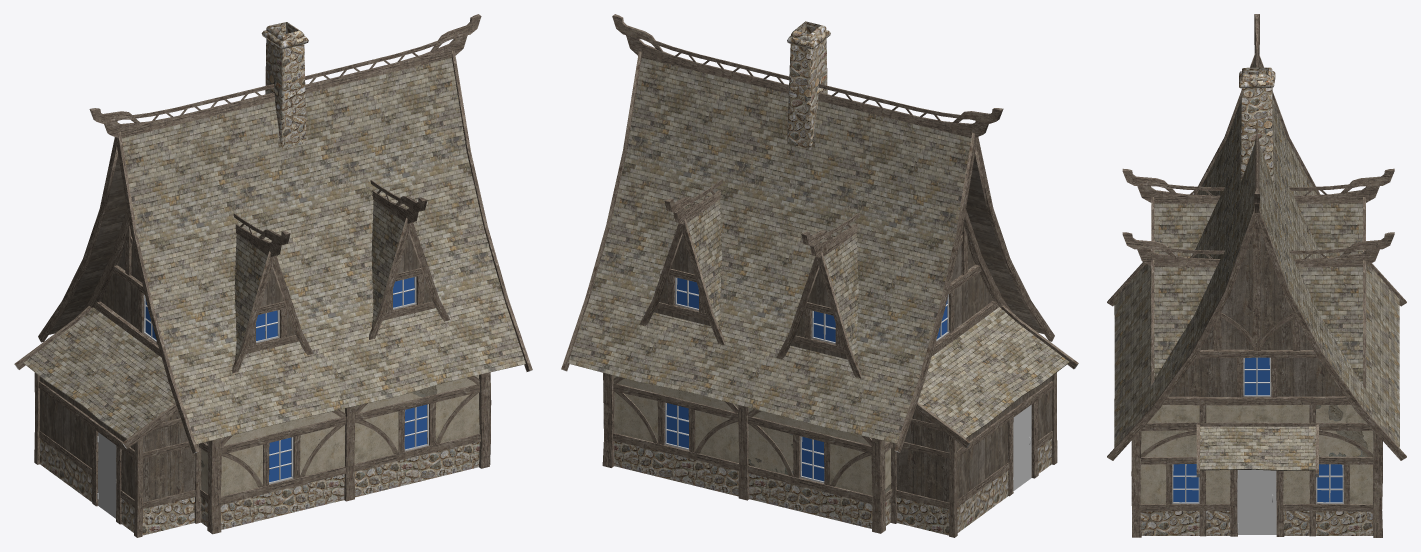
The model's file is mw_type_2_cottage_01.FBX.
3 renders of one model, left to right at view 1: azimuth 30°, elevation 25°; view 2: azimuth 150°, elevation 25°; view 3: azimuth 270°, elevation 25°, orthographic. The views are drawn at different scales.
Parts seen in each view (by area): view 1: mw_type_2_cottage_building_01_roof, mw_type_2_cottage_building_01_wood, mw_type_2_cottage_building_01_stone_01, mw_type_2_cottage_building_01_wall, mw_type_2_cottage_building_01; view 2: mw_type_2_cottage_building_01_roof, mw_type_2_cottage_building_01_wood, mw_type_2_cottage_building_01_stone_01, mw_type_2_cottage_building_01_wall, mw_type_2_cottage_building_01; view 3: mw_type_2_cottage_building_01_roof, mw_type_2_cottage_building_01_wood, mw_type_2_cottage_building_01_wall, mw_type_2_cottage_building_01_stone_01, mw_type_2_cottage_building_01.
Boxes of the visible parts, box(x1,y1,x2,y2) form: mw_type_2_cottage_building_01_roof: box(23, 57, 525, 444); mw_type_2_cottage_building_01_wood: box(14, 14, 532, 537); mw_type_2_cottage_building_01_stone_01: box(40, 22, 479, 535); mw_type_2_cottage_building_01_wall: box(201, 375, 479, 496); mw_type_2_cottage_building_01: box(97, 276, 429, 518); mw_type_2_cottage_building_01_roof: box(568, 57, 1069, 443); mw_type_2_cottage_building_01_wood: box(561, 14, 1078, 537); mw_type_2_cottage_building_01_stone_01: box(614, 21, 1051, 535); mw_type_2_cottage_building_01_wall: box(614, 376, 891, 495); mw_type_2_cottage_building_01: box(664, 277, 1031, 490); mw_type_2_cottage_building_01_roof: box(1114, 62, 1399, 470); mw_type_2_cottage_building_01_wood: box(1107, 14, 1406, 537); mw_type_2_cottage_building_01_wall: box(1140, 405, 1373, 504); mw_type_2_cottage_building_01_stone_01: box(1140, 67, 1373, 535); mw_type_2_cottage_building_01: box(1172, 357, 1343, 534).
Size of the model in its own units: 1539 by 1517 by 1024.
